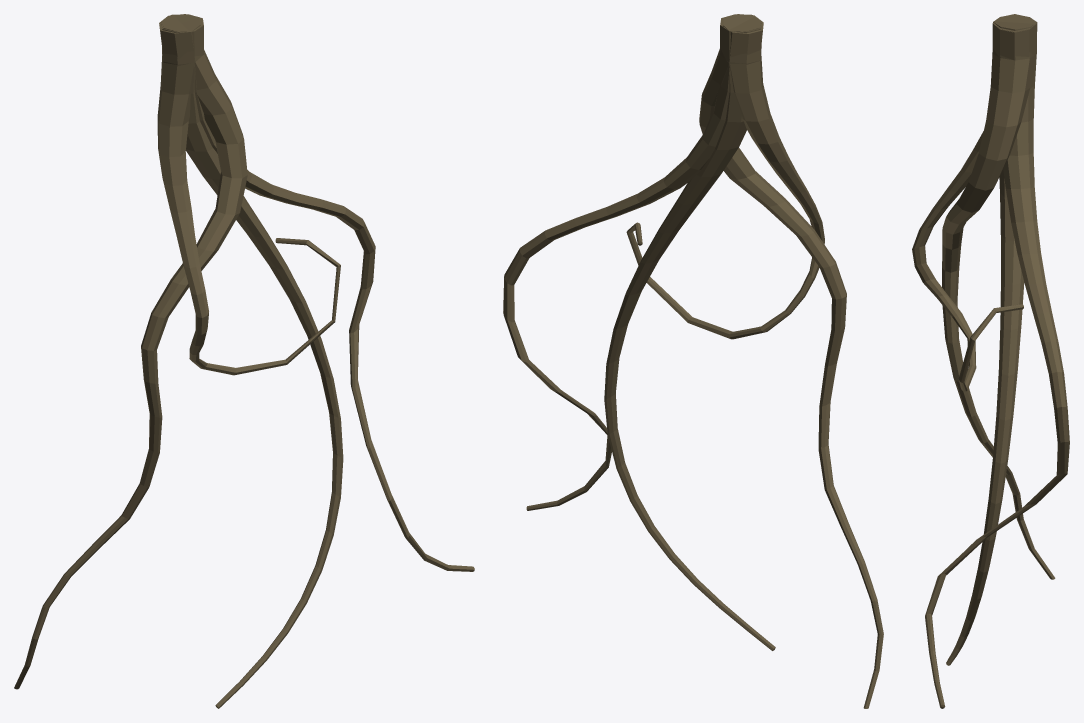
The model's file is RootBundle.1.fbx.
3 views of the same model, side by side, from view 1: azimuth 30°, elevation 25°; view 2: azimuth 150°, elevation 25°; view 3: azimuth 270°, elevation 25° (orthographic). The views are drawn at different scales.
Visible parts, largest first — view 1: RootBundle.1; view 2: RootBundle.1; view 3: RootBundle.1.
Boxes of the visible parts, left/top/right/bottom form: RootBundle.1: left=14, top=14, right=474, bottom=708; RootBundle.1: left=503, top=14, right=883, bottom=708; RootBundle.1: left=912, top=14, right=1069, bottom=708.
Size of the model in its own units: 268 by 421 by 93.59.
